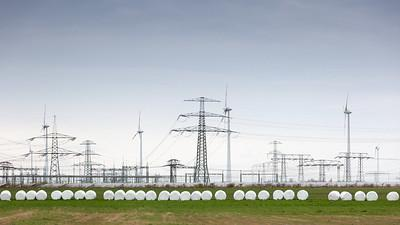power_tower: (177, 93, 226, 194), (31, 115, 76, 190), (77, 136, 104, 193)
